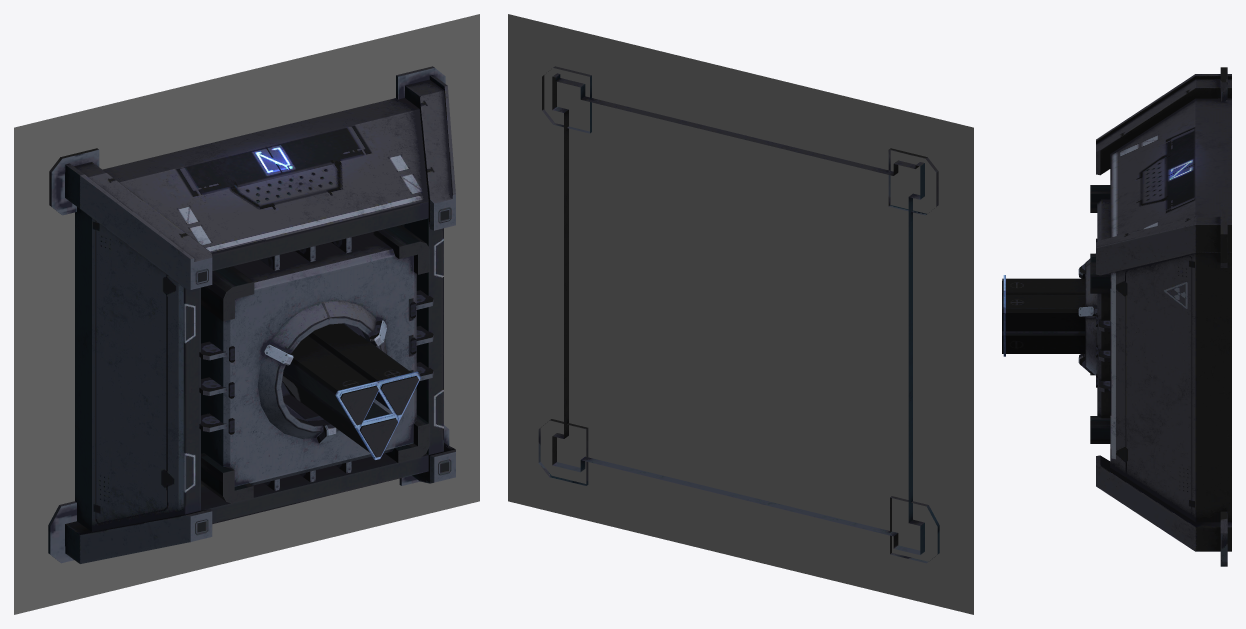
The model's file is trap_008_farm.glb.
3 views of the same model, side by side, from view 1: azimuth 30°, elevation 25°; view 2: azimuth 150°, elevation 25°; view 3: azimuth 270°, elevation 25° (orthographic). The views are drawn at different scales.
Parts seen in each view (by area): view 1: supply_base, S_LM_supplyshadow, supply_battery; view 2: S_LM_supplyshadow, supply_base; view 3: supply_base, supply_battery.
Boxes of the visible parts, <box> form: supply_base: <box>48,66,455,563</box>; S_LM_supplyshadow: <box>14,14,479,614</box>; supply_battery: <box>282,323,420,459</box>; S_LM_supplyshadow: <box>508,14,973,614</box>; supply_base: <box>538,66,939,563</box>; supply_base: <box>1078,67,1231,566</box>; supply_battery: <box>1002,275,1085,356</box>.
Size of the model in its own units: 1.05 by 1.05 by 0.5351.
2 materials, 2 textured.
